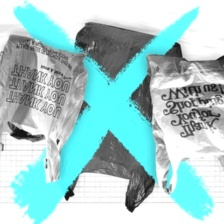plastic_bag: (50, 19, 190, 215), (0, 32, 90, 186), (139, 46, 223, 197)
